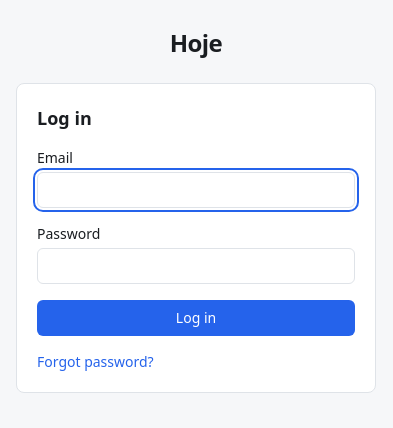
Test: login › shows the lockout time in minutes from Retry-After
The width and height of the screenshot is (393, 428).
Step 1. Type "ana@example.com" into the field labelled "Email" → (196, 190), box 37,172 -> 355,208
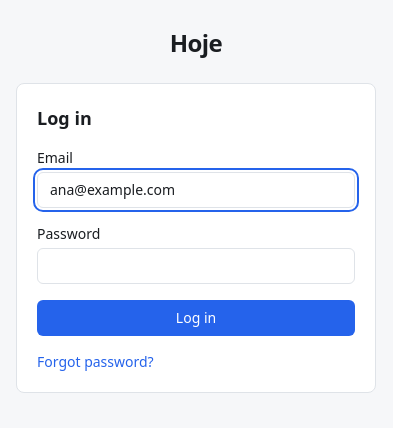
Step 2. Type "nope" into the password field labelled "Password" → (196, 266), box 37,248 -> 355,284
Then press Enter
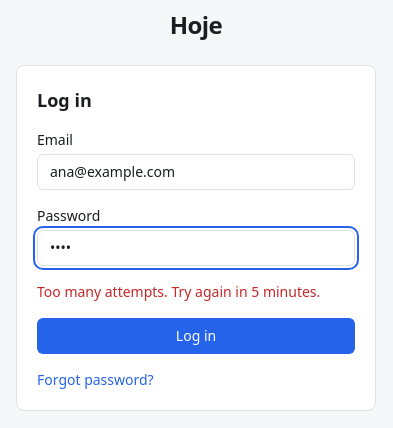
expect the message reads "Too many attempts. Try again in 5 minutes.": met, box 37,282 -> 320,301
